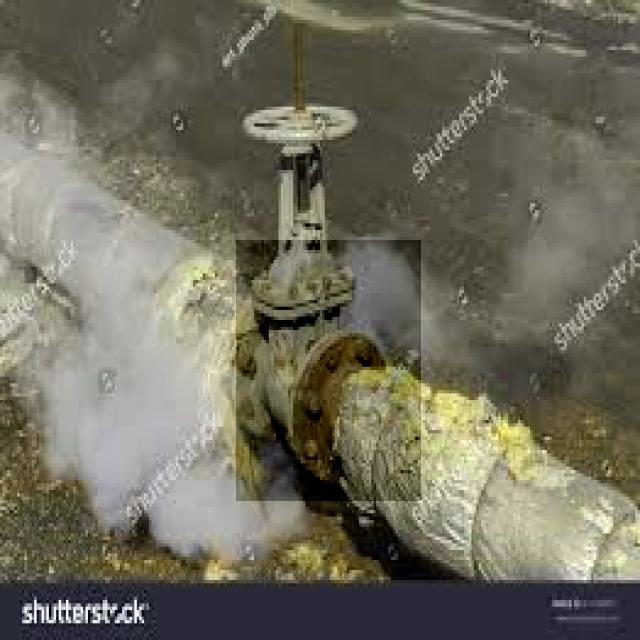corrosion: (230, 263, 395, 527)
